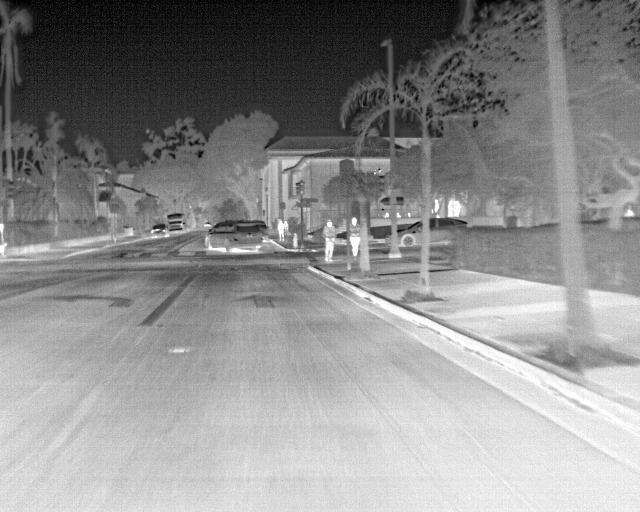bicycle: (203, 218, 266, 254), (431, 214, 467, 244), (399, 218, 420, 249), (164, 212, 188, 233), (147, 223, 168, 237), (256, 219, 269, 240)
empty: (321, 220, 339, 265), (348, 213, 364, 258), (273, 217, 286, 245), (0, 221, 9, 258)
